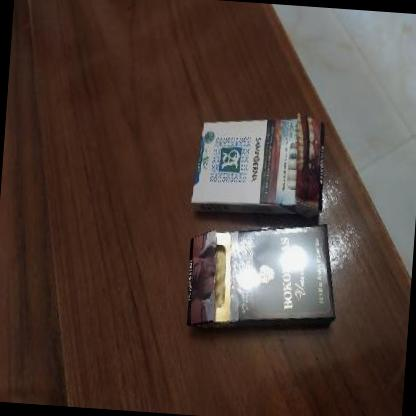objects: (185, 216, 342, 336), (191, 112, 329, 219)
